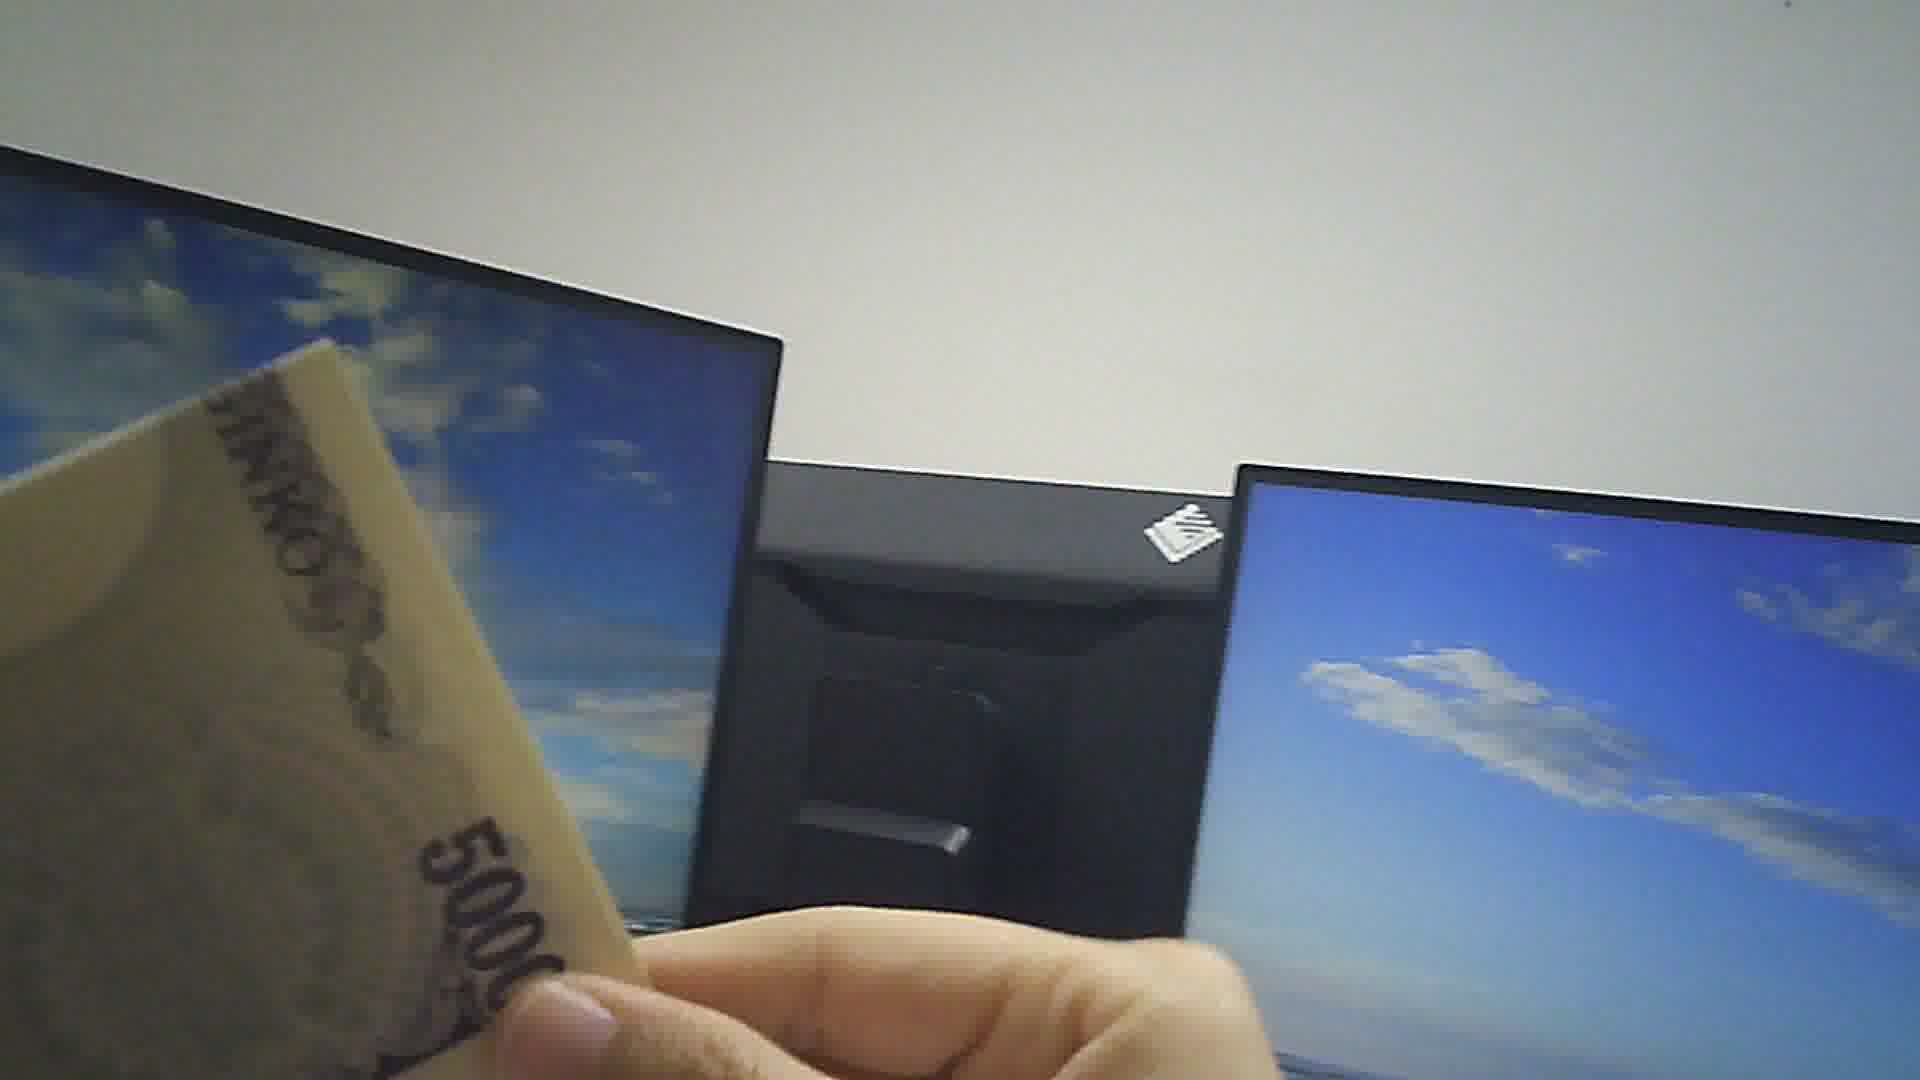5,000 Yen: (1, 327, 661, 1068)
